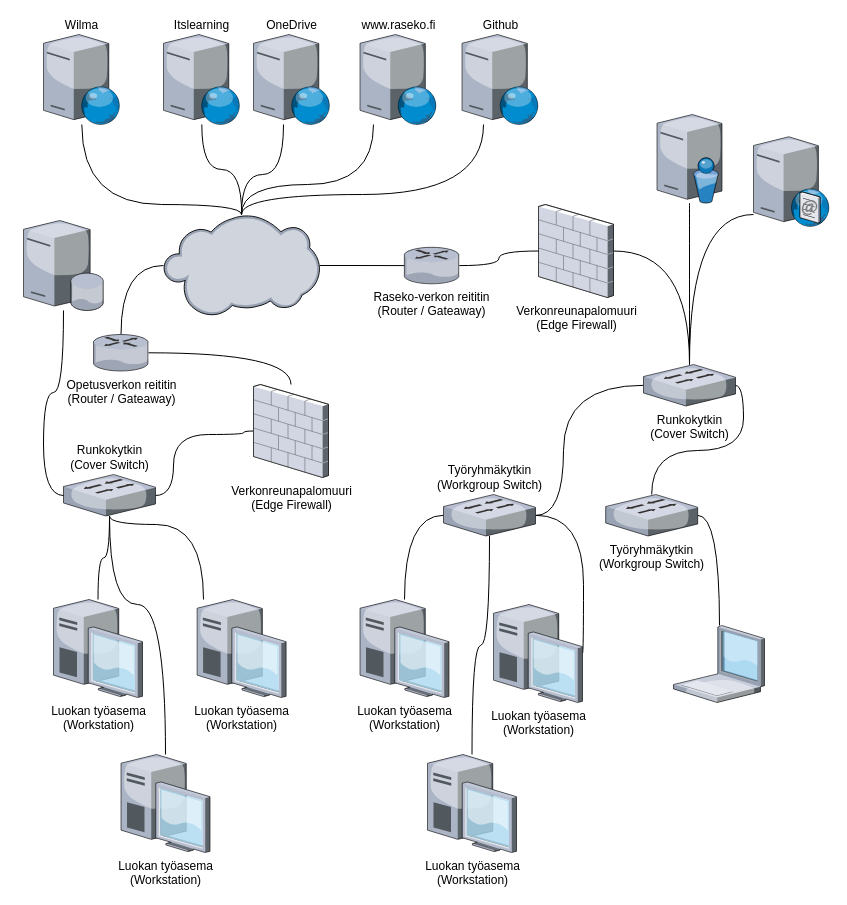
This 847x905 diagram has some shape labels left out. Each missing label, with the centre of its shape:
"Henkilökunnan työasema (Staff Workstation)" belongs at (x=718, y=663).
"Internet" belongs at (x=241, y=265).
"Opetuspalvelimet" belongs at (x=63, y=265).
"RASEKO AD" belongs at (x=689, y=158).
"Rasekoemail" belongs at (x=791, y=180).
